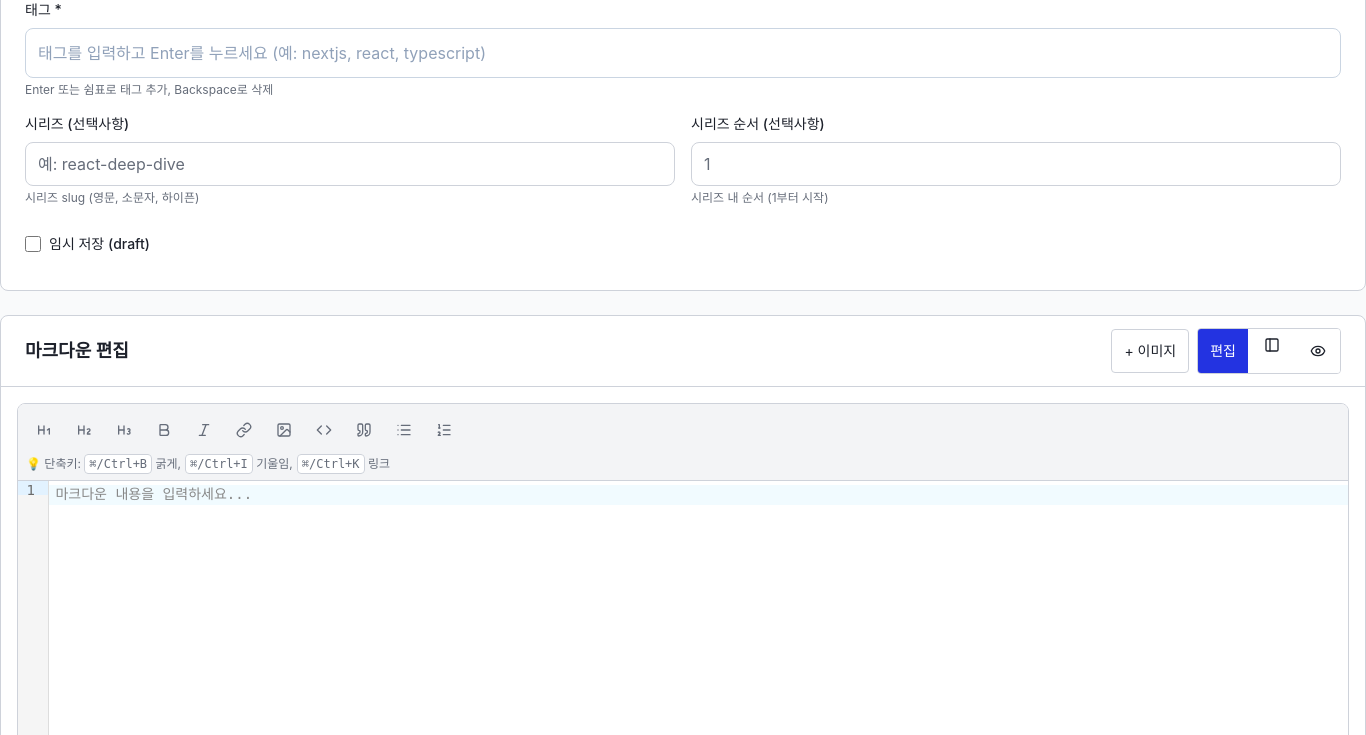
Test case: FileCreatorWidget - 스크롤 동기화 (TDD) › RED: 실패하는 테스트 먼저 작성 → GREEN: 구현 › 프리뷰 모드에서는 에디터가 렌더링되지 않아야 함
The width and height of the screenshot is (1366, 735).
(page scrolled)
// 프리뷰 모드 버튼 클릭
Click the button titled "미리보기" at (1318, 351), box left=1296, top=329, right=1340, bottom=373
(page scrolled)
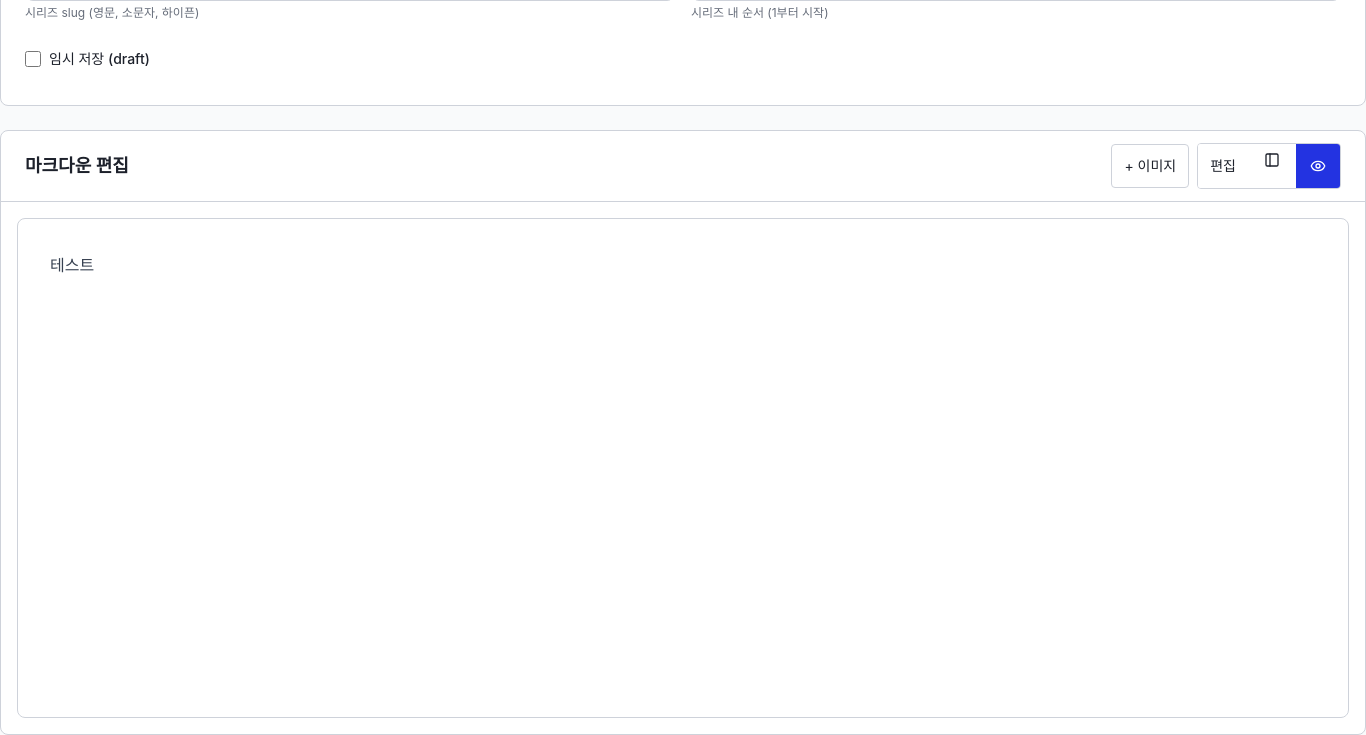
Result: the element with test id "preview-scroll" is shown
